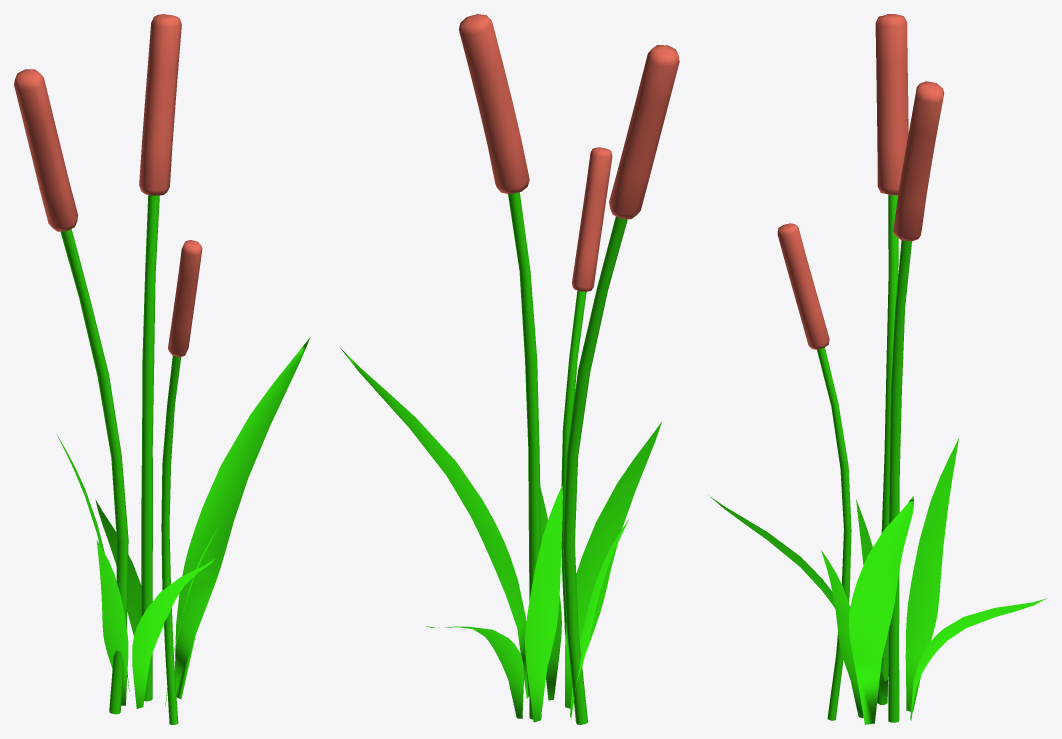
File: Cattail.fbx
3 views of the same model, side by side, from view 1: azimuth 30°, elevation 25°; view 2: azimuth 150°, elevation 25°; view 3: azimuth 270°, elevation 25° (orthographic). The views are drawn at different scales.
Visible parts, largest first — view 1: Cattail; view 2: Cattail; view 3: Cattail.
Part boxes in pixels (<box>): Cattail: <box>14,14,310,724</box>; Cattail: <box>340,14,679,724</box>; Cattail: <box>710,14,1046,724</box>.
Bounding box in the file's own units: 50.69 × 105 × 49.37.
